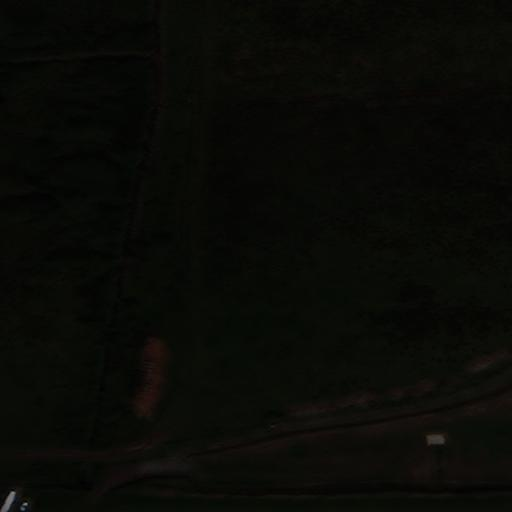Small Civil Transport: (0, 490, 28, 512)
